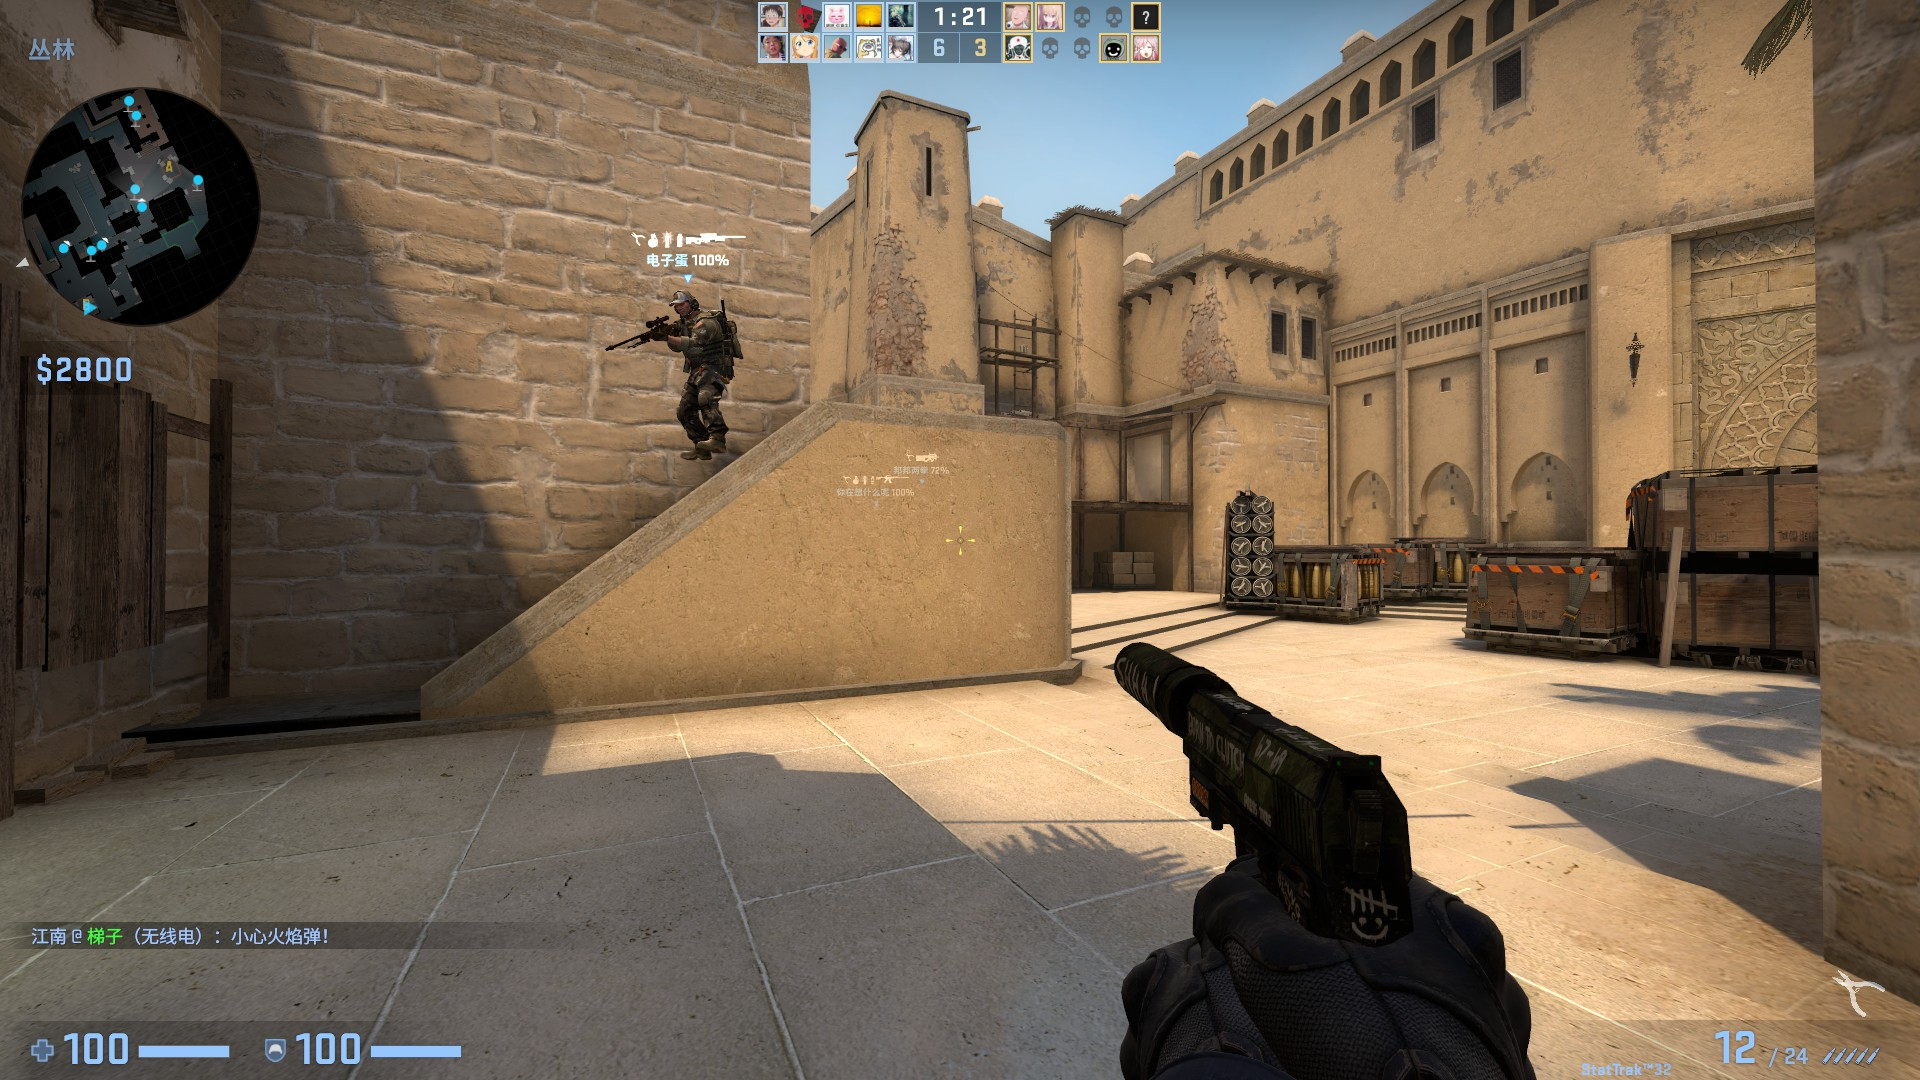head: (671, 289, 698, 317)
